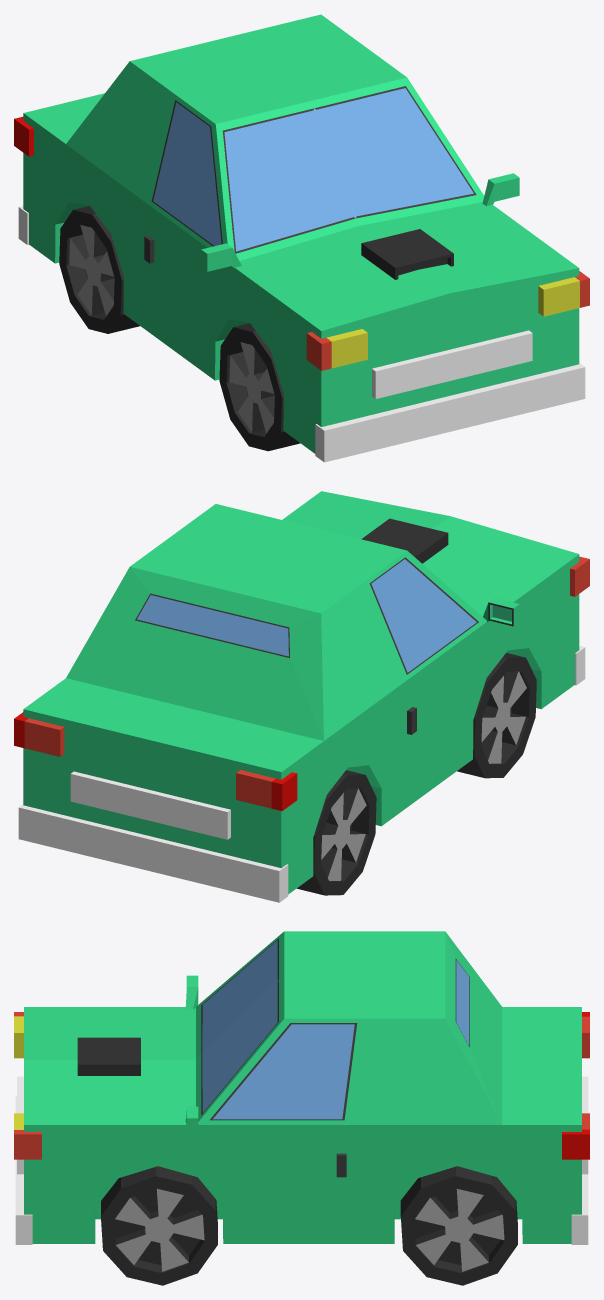
The model's file is LPC1.fbx.
3 views of the same model, one above another, from view 1: azimuth 30°, elevation 25°; view 2: azimuth 150°, elevation 25°; view 3: azimuth 270°, elevation 25° (orthographic). The views are drawn at different scales.
Visible parts, largest first — view 1: Cube, Cube.001; view 2: Cube, Cube.001; view 3: Cube, Cube.001.
Boxes of the visible parts, x1=… form: Cube: x1=14, y1=14, x2=589, y2=462; Cube.001: x1=59, y1=206, x2=453, y2=451; Cube: x1=14, y1=491, x2=589, y2=902; Cube.001: x1=297, y1=518, x2=536, y2=895; Cube: x1=14, y1=931, x2=589, y2=1244; Cube.001: x1=77, y1=1037, x2=517, y2=1285.
Bounding box in the file's own units: 242 × 198 × 413.
